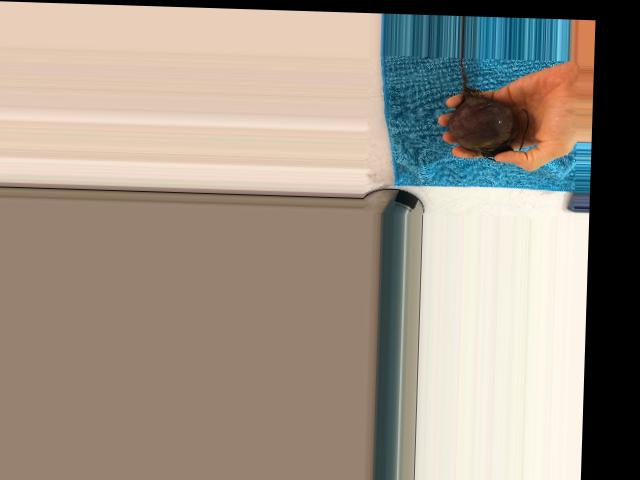beet: (447, 56, 530, 162)
